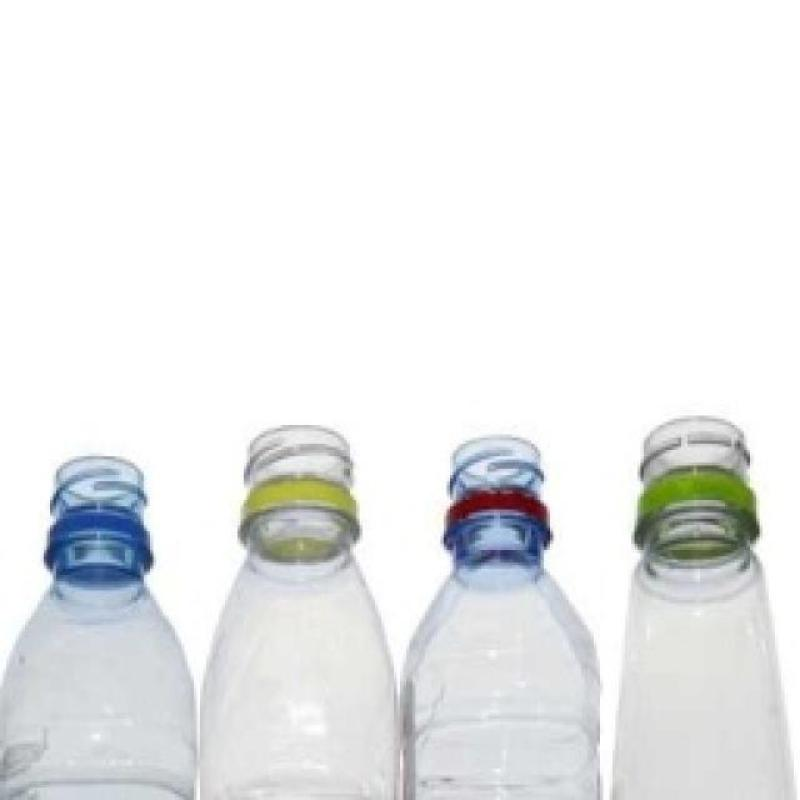botella: (398, 434, 602, 800), (199, 427, 399, 800), (607, 415, 795, 800), (0, 452, 200, 800)
